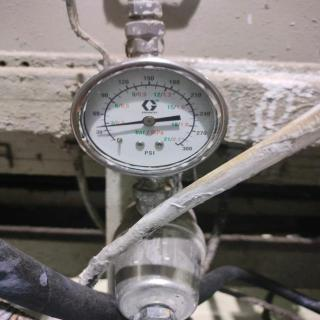gauge: (67, 56, 229, 177), (171, 135, 193, 153), (108, 131, 126, 153), (143, 116, 154, 126), (95, 122, 106, 130)
